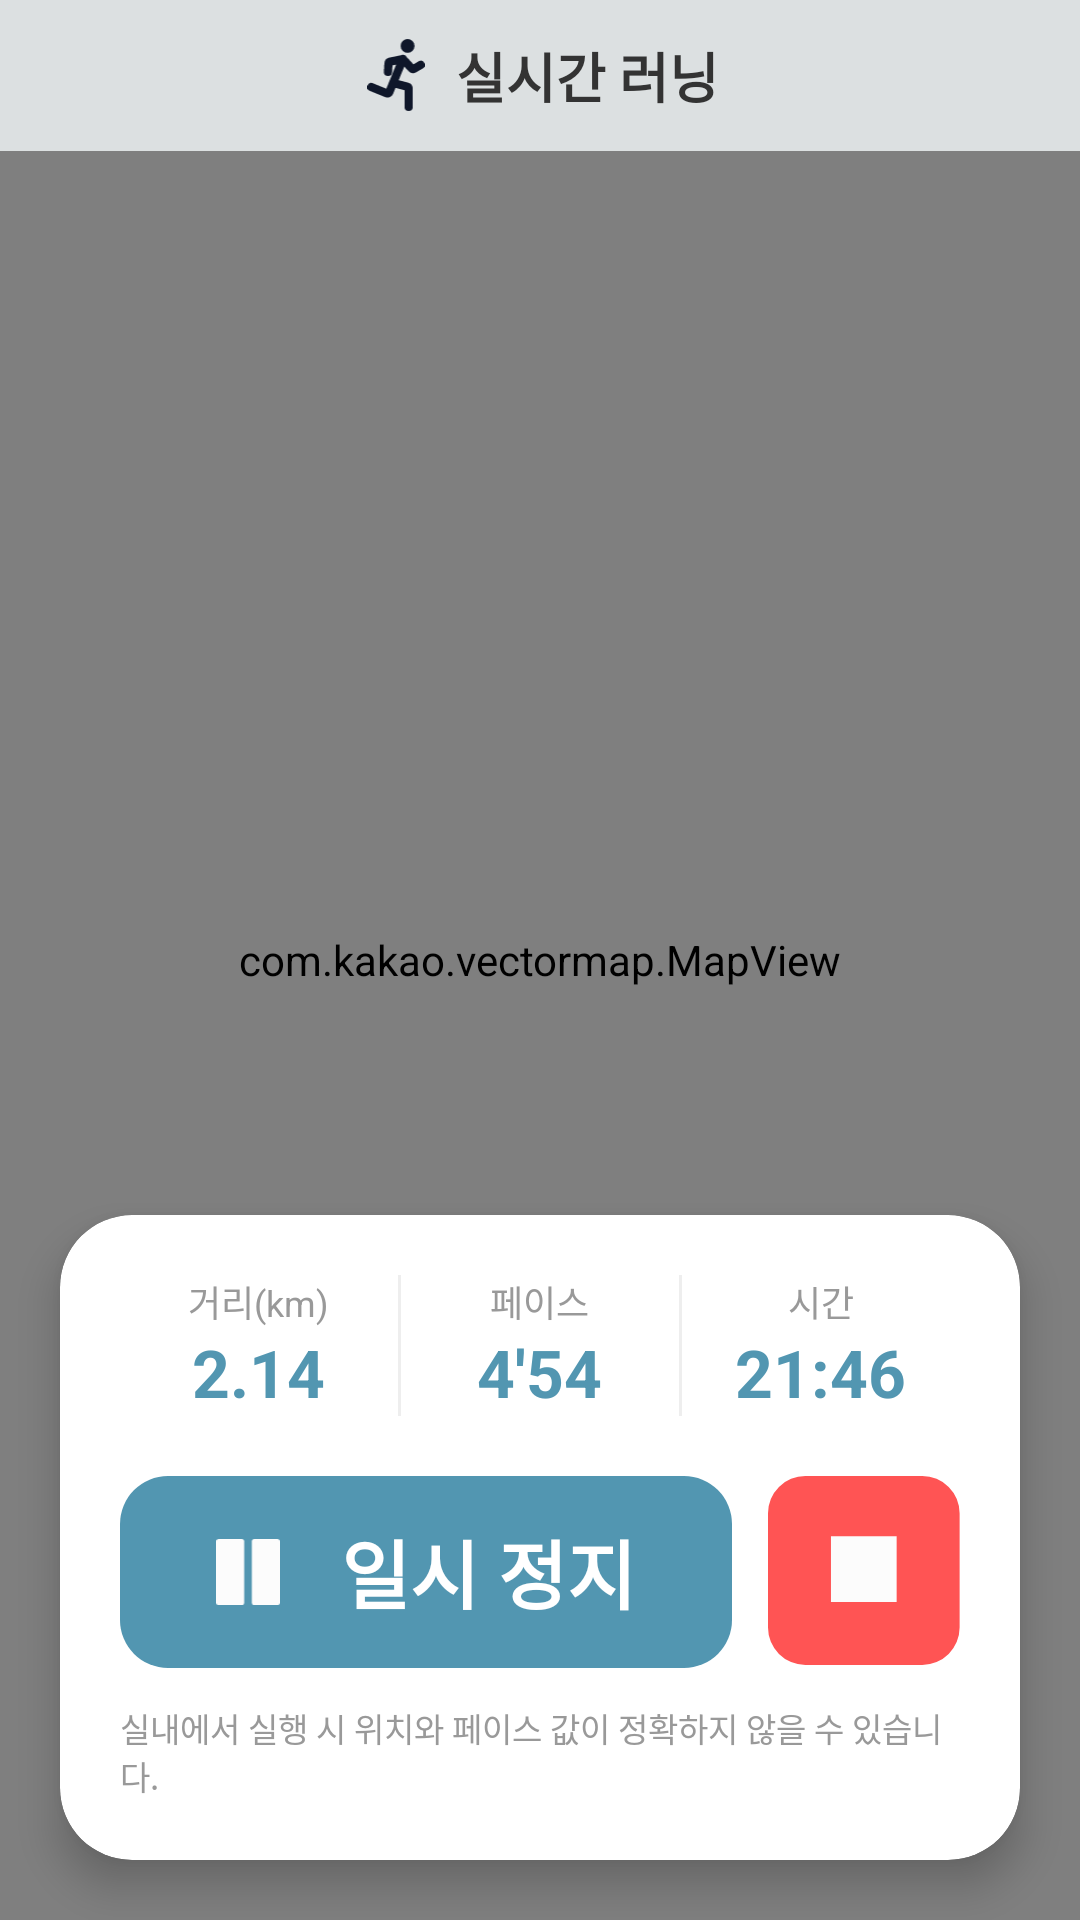

Icon bounding boxes for this 1080*1920 phone screenshot, format rect(x1, y1, x2, y2):
pause: rect(216, 1539, 280, 1605)
running: rect(367, 39, 425, 111)
